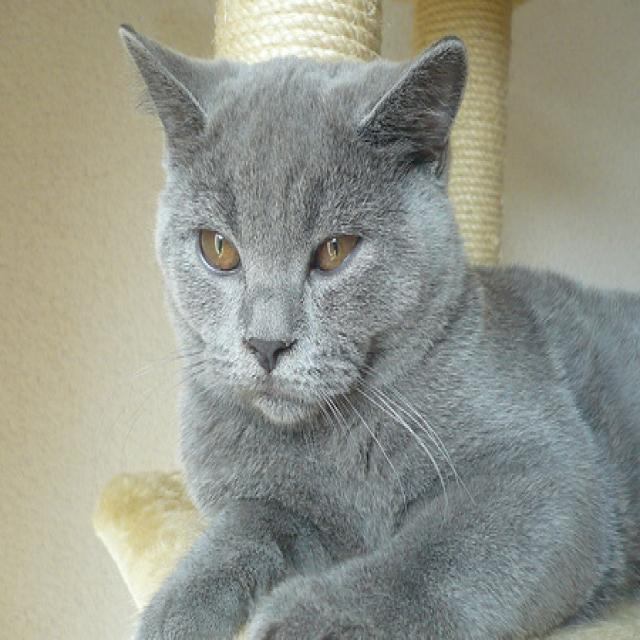British Shorthair: (115, 19, 640, 640)
